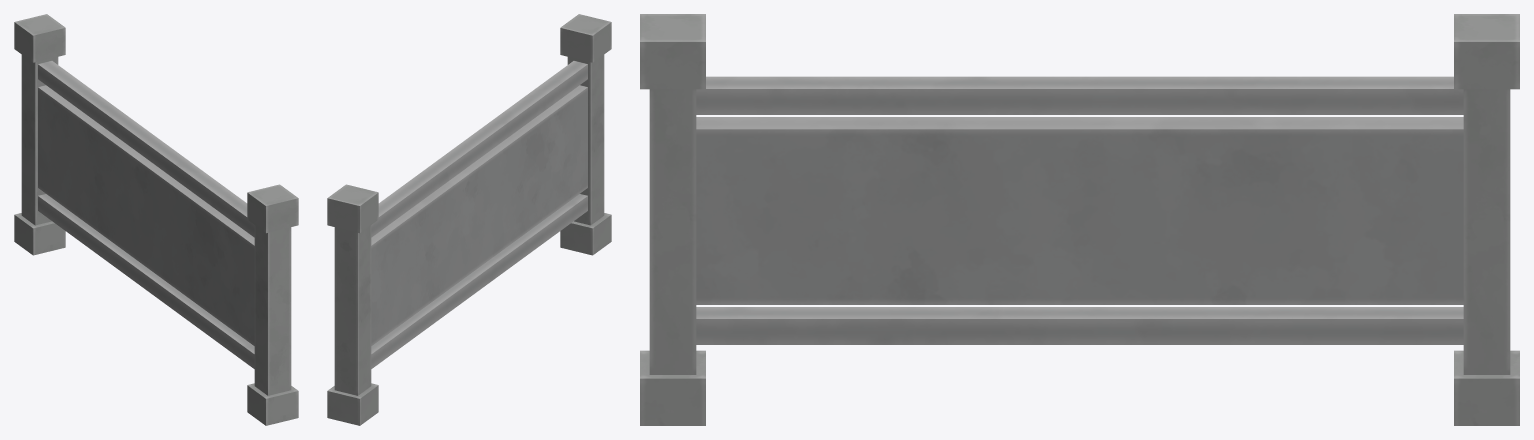
File: Pfb_Stairs_Soda.fbx
3 views of the same model, side by side, from view 1: azimuth 30°, elevation 25°; view 2: azimuth 150°, elevation 25°; view 3: azimuth 270°, elevation 25° (orthographic). The views are drawn at different scales.
Visible parts, largest first — view 1: Mat_Stairs_Soda; view 2: Mat_Stairs_Soda; view 3: Mat_Stairs_Soda.
Part boxes in pixels (x1,y1,x2,y2): Mat_Stairs_Soda: (14, 14, 298, 425); Mat_Stairs_Soda: (327, 14, 611, 425); Mat_Stairs_Soda: (640, 14, 1519, 425).
Size of the model in its own units: 0.163 by 1.05 by 2.18.
1 material, 1 textured.
